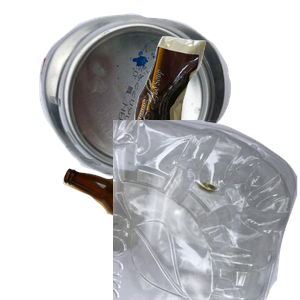glass: (60, 166, 241, 300)
metal: (37, 11, 261, 180)
plastic: (113, 120, 300, 300)
trash: (131, 34, 300, 177)
